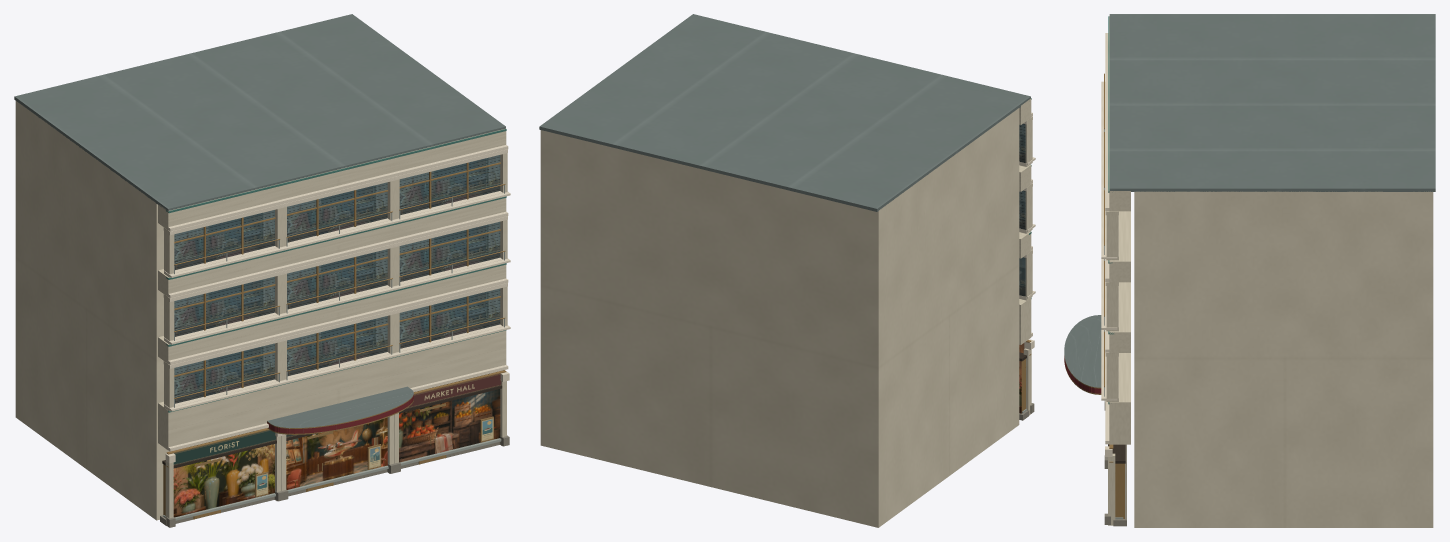
The model's file is ExchangeShops.fbx.
3 views of the same model, side by side, from view 1: azimuth 30°, elevation 25°; view 2: azimuth 150°, elevation 25°; view 3: azimuth 270°, elevation 25° (orthographic). The views are drawn at different scales.
Visible parts, largest first — view 1: ExchangeShops Close, ExchangeShops Horizon, ExchangeShops Street; view 2: ExchangeShops Close; view 3: ExchangeShops Close, ExchangeShops Horizon, ExchangeShops Street.
Part boxes in pixels (<box>): ExchangeShops Close: <box>14,14,510,527</box>; ExchangeShops Horizon: <box>168,155,503,517</box>; ExchangeShops Street: <box>270,393,413,434</box>; ExchangeShops Close: <box>539,14,1035,527</box>; ExchangeShops Close: <box>1064,14,1435,527</box>; ExchangeShops Horizon: <box>1065,315,1101,387</box>; ExchangeShops Street: <box>1064,315,1101,393</box>.
Bounding box in the file's own units: 1813 × 1629 × 1618.
